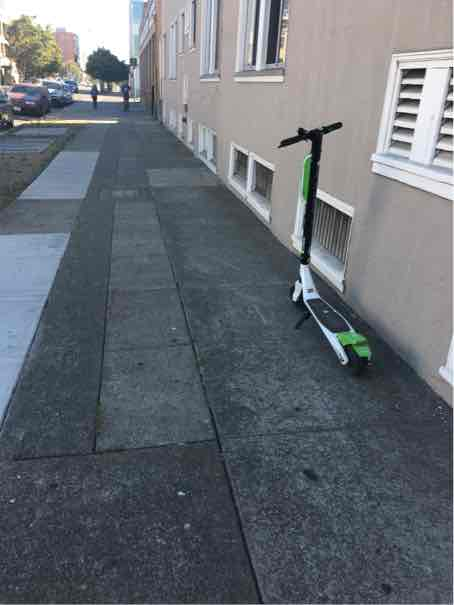scooter: (272, 119, 380, 388)
